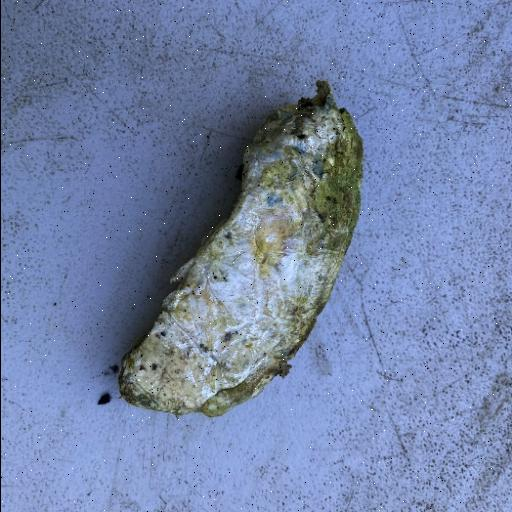Waste: (116, 78, 366, 418)
